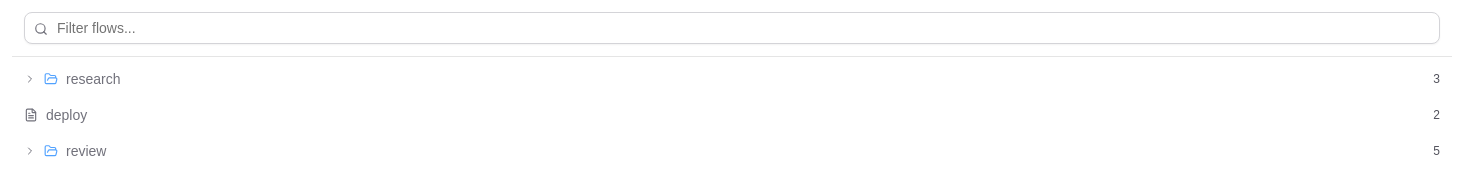
Test: FlowFileList › filters flows by name
Type "res" into the field with placeholder "Filter flows..." at (732, 28), box [24,12,1440,44]
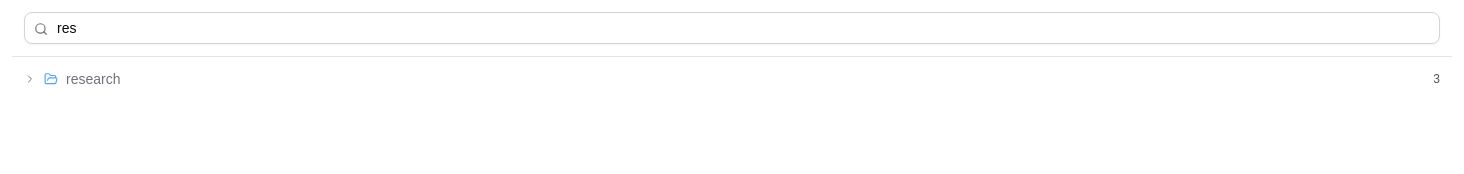
Check: the text "research" is shown, box [66,71,120,87]
Check: the button "deploy" is gone
Check: the button "review" is gone
